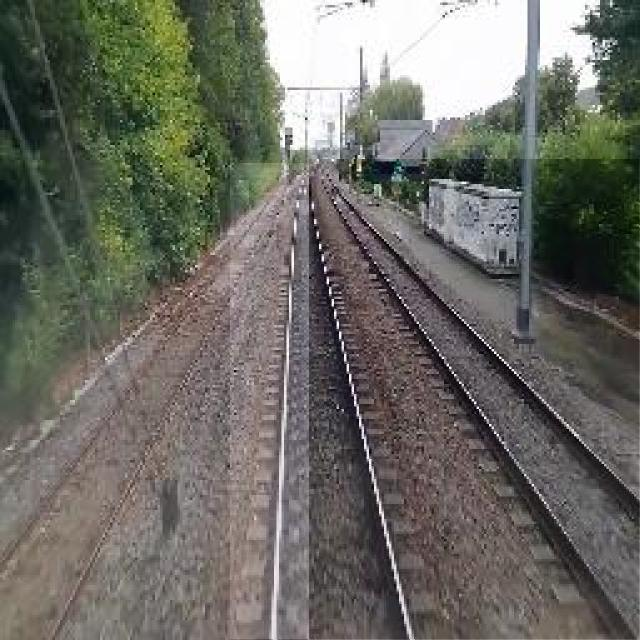rail: (310, 160, 640, 640), (232, 165, 445, 640)
